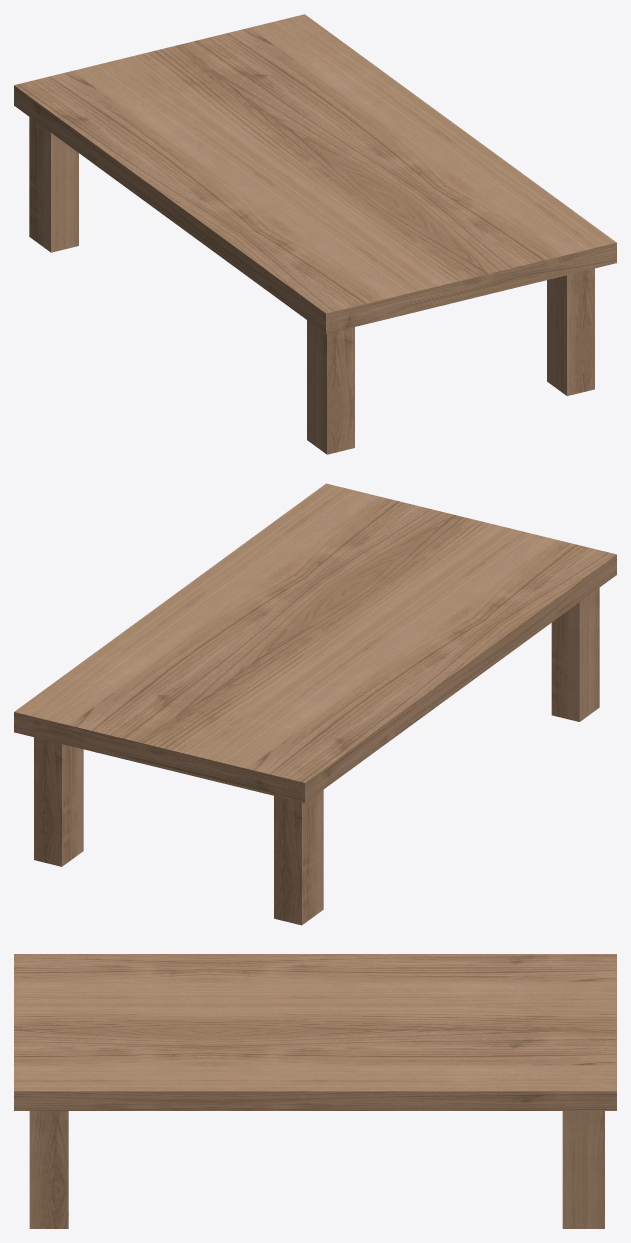
File: table.fbx
3 renders of one model, top to bottom at view 1: azimuth 30°, elevation 25°; view 2: azimuth 150°, elevation 25°; view 3: azimuth 270°, elevation 25°, orthographic. The views are drawn at different scales.
Visible parts, largest first — view 1: 立方体; view 2: 立方体; view 3: 立方体.
Part boxes in pixels (x1=…): 立方体: x1=14, y1=14, x2=616, y2=454; 立方体: x1=14, y1=483, x2=616, y2=925; 立方体: x1=14, y1=954, x2=616, y2=1228.
Bounding box in the file's own units: 442 × 217 × 821.
